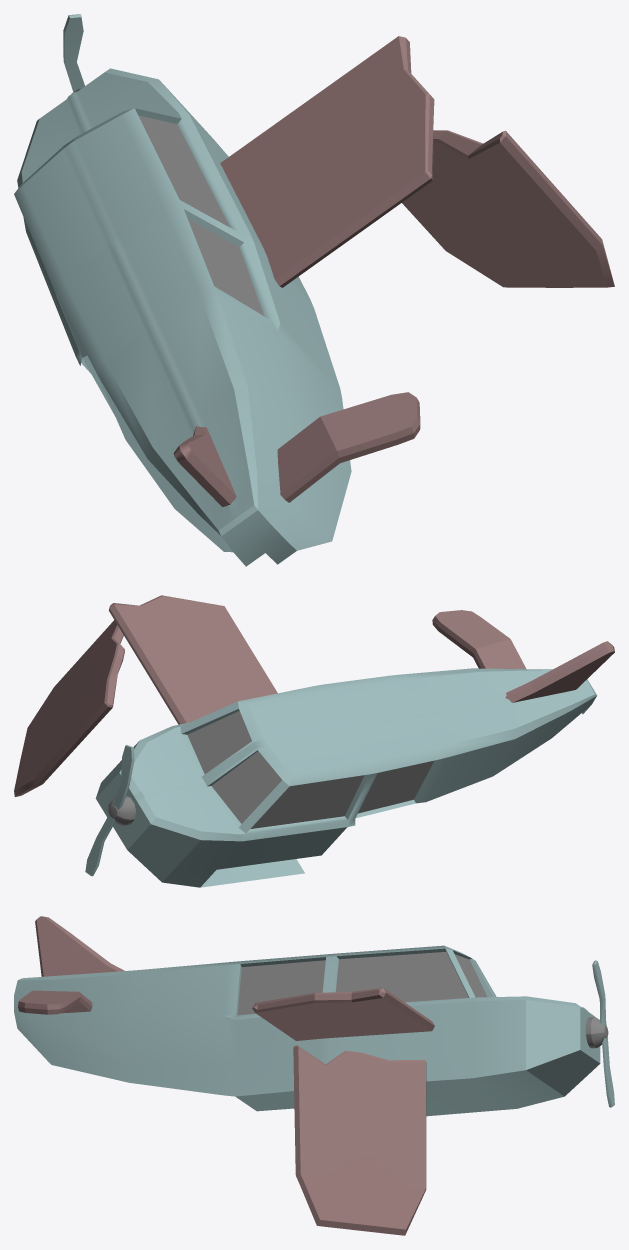
The model's file is PlaneCrash_02.fbx.
The picture shows the model from 3 angles, top to bottom: view 1: azimuth 30°, elevation 25°; view 2: azimuth 150°, elevation 25°; view 3: azimuth 270°, elevation 25°; orthographic projection. The views are drawn at different scales.
Parts seen in each view (by area): view 1: pCube115, polySurface14, polySurface13, pCube117, pCube118, pCube119; view 2: pCube115, polySurface14, polySurface13, pCube117, pCube118, pCube119, pSphere1; view 3: pCube115, polySurface13, polySurface14, pCube118, pCube117, pCube119, pSphere1.
Boxes of the visible parts, <box> form: pCube115: <box>14,68,351,566</box>; polySurface14: <box>220,36,434,287</box>; polySurface13: <box>402,130,614,287</box>; pCube117: <box>277,392,420,502</box>; pCube118: <box>173,426,236,506</box>; pCube119: <box>63,14,84,91</box>; pCube115: <box>95,668,597,887</box>; polySurface14: <box>109,595,277,724</box>; polySurface13: <box>14,620,124,796</box>; pCube117: <box>432,610,526,668</box>; pCube118: <box>505,641,614,702</box>; pCube119: <box>85,744,134,876</box>; pSphere1: <box>107,795,135,826</box>; pCube115: <box>14,945,600,1116</box>; polySurface13: <box>293,1045,426,1235</box>; polySurface14: <box>252,988,434,1040</box>; pCube118: <box>35,916,124,976</box>; pCube117: <box>18,990,92,1014</box>; pCube119: <box>592,960,614,1107</box>; pSphere1: <box>585,1017,608,1048</box>.
Bounding box in the file's own units: 3.87 × 1.86 × 4.53.
